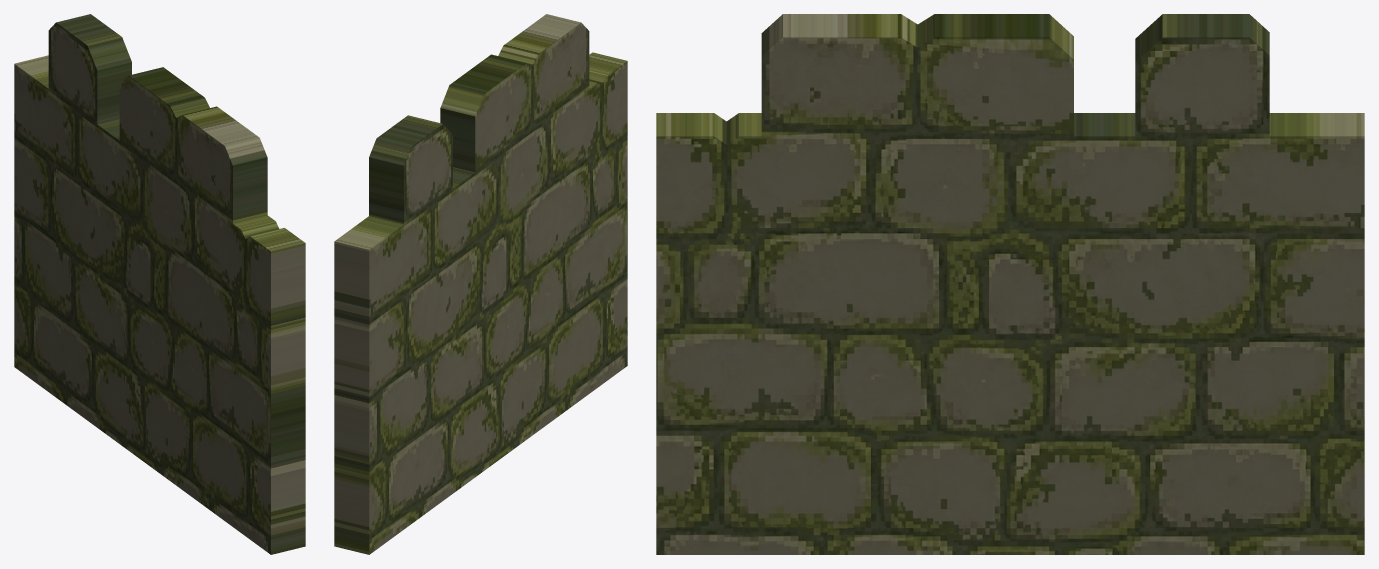
The model's file is Break_Wall_1.fbx.
The picture shows the model from 3 angles, left to right: view 1: azimuth 30°, elevation 25°; view 2: azimuth 150°, elevation 25°; view 3: azimuth 270°, elevation 25°; orthographic projection. The views are drawn at different scales.
Visible parts, largest first — view 1: Plane.011; view 2: Plane.011; view 3: Plane.011.
Boxes of the visible parts, box(x1,y1,x2,y2) form: Plane.011: box(14, 14, 305, 554); Plane.011: box(334, 14, 627, 554); Plane.011: box(656, 14, 1364, 554).
Size of the model in its own units: 44.34 by 458 by 568.
